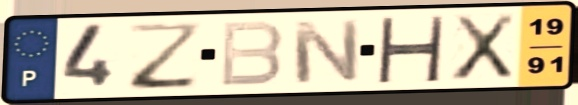4: (59, 20, 122, 94)
B: (216, 19, 286, 89)
H: (373, 15, 448, 84)
N: (289, 18, 363, 86)
X: (448, 11, 519, 83)
Z: (126, 20, 205, 92)
